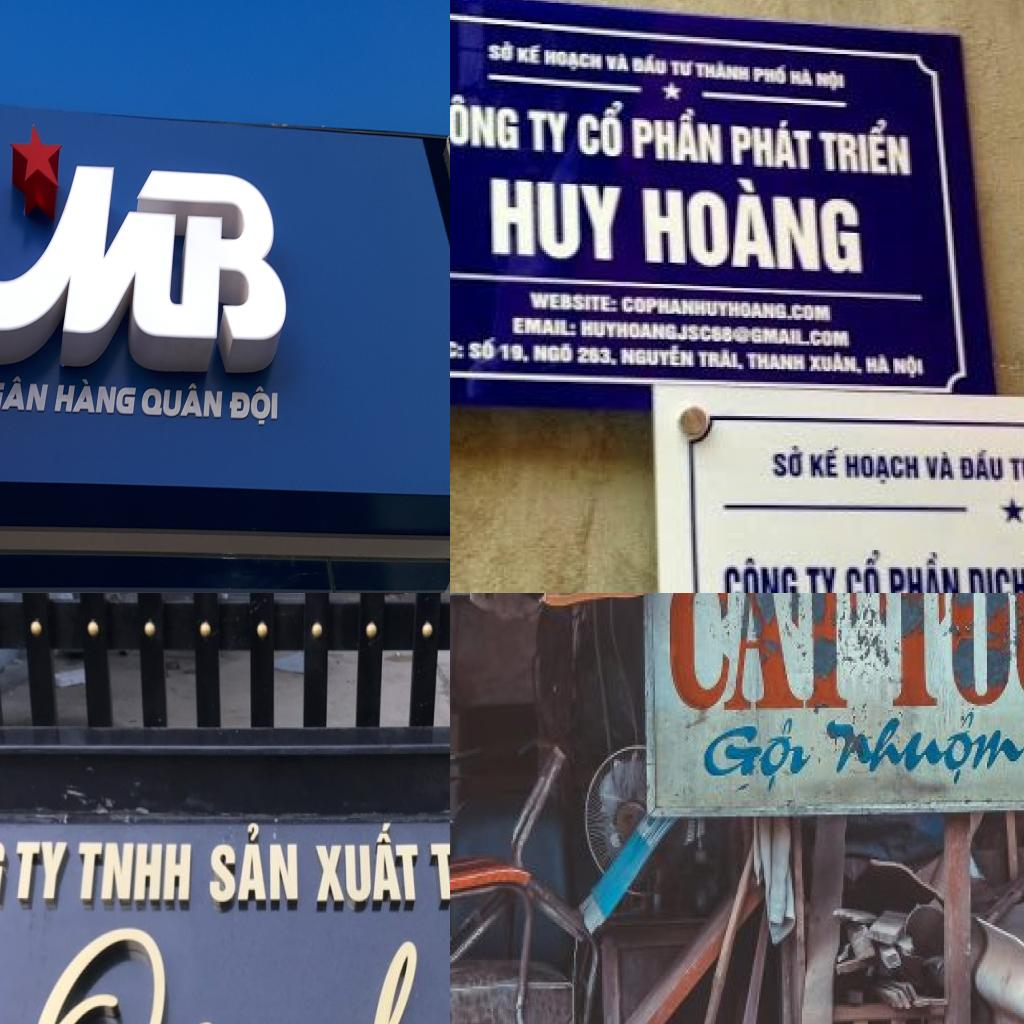text: (4, 919, 450, 1024), (636, 173, 870, 280), (665, 593, 863, 714), (871, 593, 1024, 714), (823, 708, 1024, 790), (485, 173, 622, 269), (312, 822, 423, 915), (698, 720, 815, 796), (208, 822, 302, 913), (77, 837, 198, 907), (580, 320, 851, 350), (622, 294, 836, 326), (630, 107, 729, 171), (817, 120, 914, 180), (729, 116, 817, 175), (52, 369, 139, 422), (14, 834, 73, 909), (450, 92, 521, 153), (140, 378, 226, 424), (716, 550, 802, 593), (842, 446, 922, 490), (576, 96, 628, 162), (886, 550, 964, 593), (0, 368, 51, 421), (525, 105, 573, 158), (842, 546, 886, 593), (620, 344, 698, 369), (962, 564, 1024, 593), (531, 294, 620, 314), (765, 442, 807, 484), (960, 446, 1007, 482), (806, 352, 866, 380), (695, 58, 752, 86), (748, 352, 809, 378), (546, 50, 603, 75), (697, 346, 746, 373), (510, 318, 578, 337), (807, 444, 842, 480), (800, 560, 838, 593), (578, 346, 622, 373), (893, 354, 929, 386), (925, 448, 956, 482), (534, 341, 576, 363), (818, 69, 858, 92), (752, 63, 790, 86), (468, 335, 498, 363), (485, 39, 517, 65), (866, 350, 893, 378), (500, 341, 531, 365), (516, 41, 542, 69), (632, 54, 666, 75), (1006, 450, 1024, 484), (605, 54, 630, 77), (670, 56, 695, 78), (790, 67, 813, 90), (450, 337, 468, 364)
